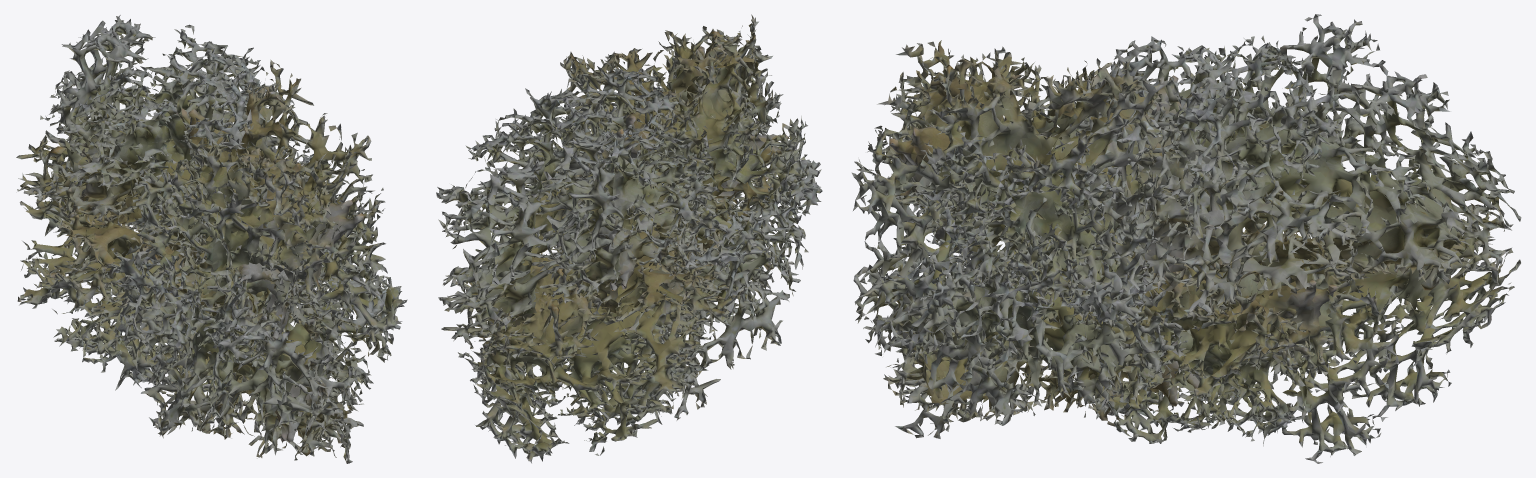
Rendered from Cl_confusa.glb.
3 renders of one model, left to right at view 1: azimuth 30°, elevation 25°; view 2: azimuth 150°, elevation 25°; view 3: azimuth 270°, elevation 25°, orthographic. The views are drawn at different scales.
Parts seen in each view (by area): view 1: tripo_node_872978b9-216c-4c2d-88ba-d2aabd2780de.001; view 2: tripo_node_872978b9-216c-4c2d-88ba-d2aabd2780de.001; view 3: tripo_node_872978b9-216c-4c2d-88ba-d2aabd2780de.001.
Part boxes in pixels (x1,y1,x2,y2): tripo_node_872978b9-216c-4c2d-88ba-d2aabd2780de.001: (16,15,407,463); tripo_node_872978b9-216c-4c2d-88ba-d2aabd2780de.001: (436,14,822,463); tripo_node_872978b9-216c-4c2d-88ba-d2aabd2780de.001: (851,14,1521,463).
Size of the model in its own units: 1.01 by 1.23 by 1.85.
1 material, 1 textured.
